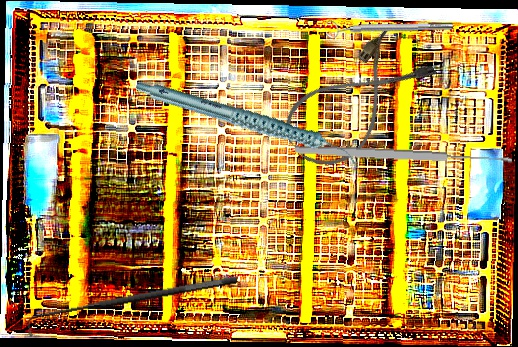Cannula: (272, 18, 442, 182)
Fixation Ring: (325, 16, 454, 40)
Handpiece: (134, 38, 360, 207)
Hook Surgical: (22, 272, 241, 338)
Surgical Spoon: (294, 143, 513, 167)
